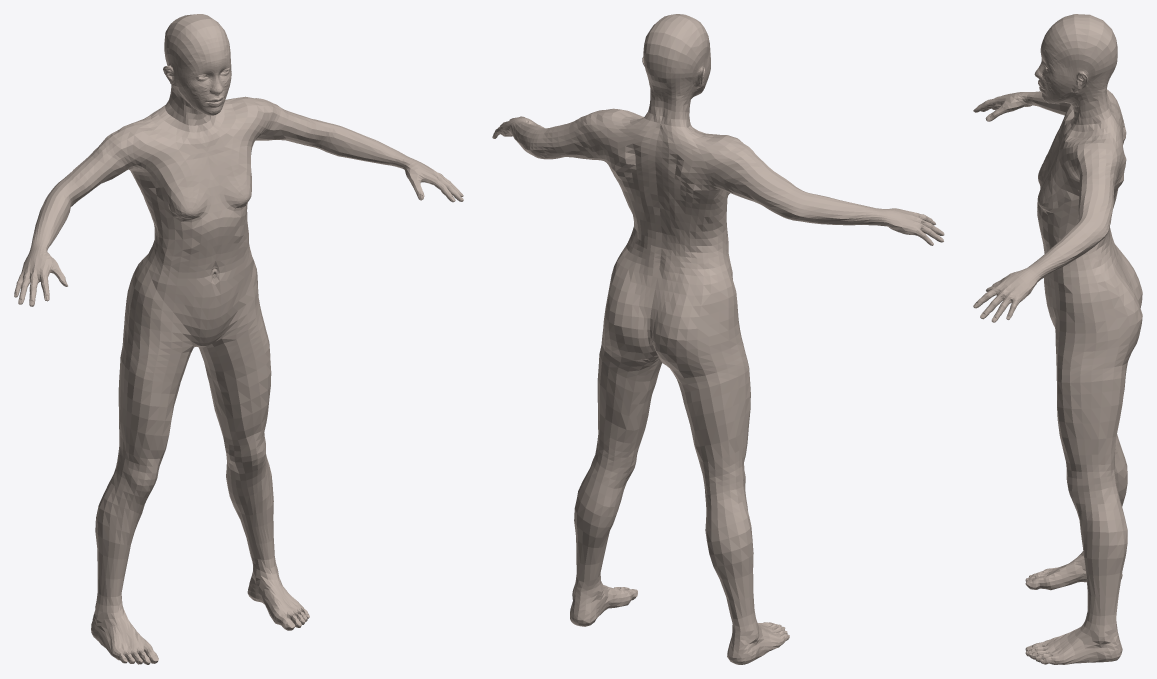
File: neutral-human-body.glb
3 renders of one model, left to right at view 1: azimuth 30°, elevation 25°; view 2: azimuth 150°, elevation 25°; view 3: azimuth 270°, elevation 25°, orthographic.
Parts seen in each view (by area): view 1: body; view 2: body; view 3: body.
Boxes of the visible parts, x1=… form: body: x1=14, y1=14, x2=463, y2=664; body: x1=492, y1=14, x2=944, y2=664; body: x1=973, y1=14, x2=1142, y2=664.
Size of the model in its own units: 12.68 by 16.66 by 4.23.
